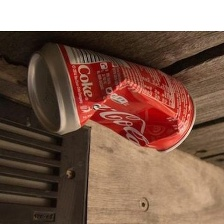can: (20, 39, 198, 154)
